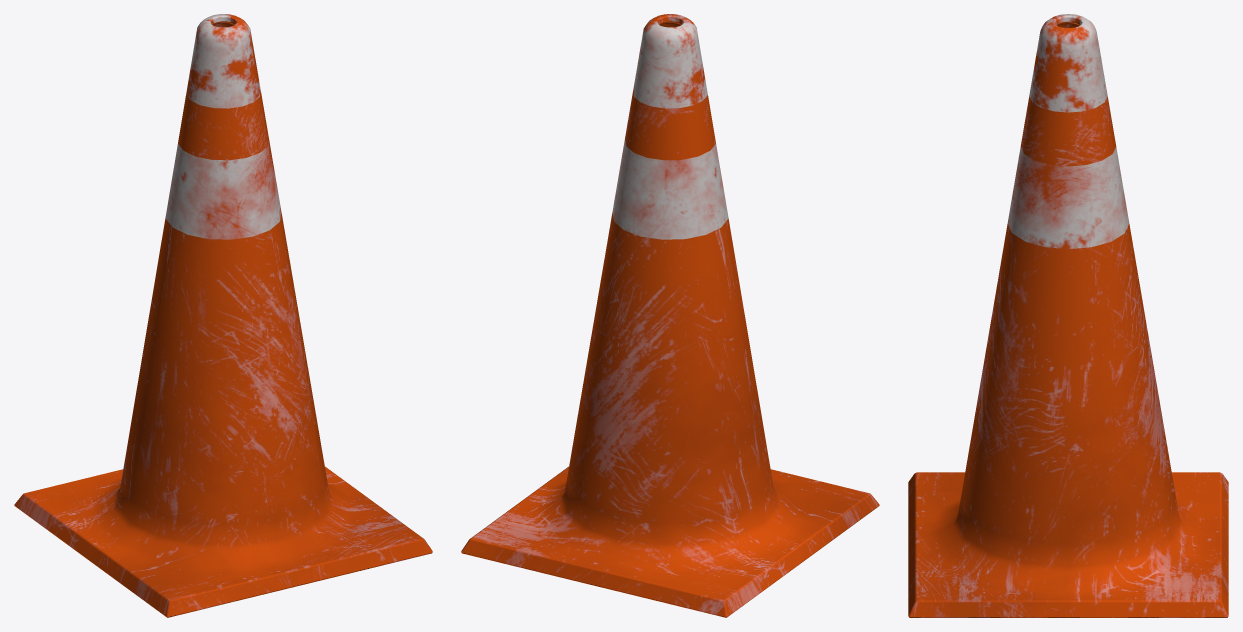
Rendered from trafficcone.fbx.
3 renders of one model, left to right at view 1: azimuth 30°, elevation 25°; view 2: azimuth 150°, elevation 25°; view 3: azimuth 270°, elevation 25°, orthographic. The views are drawn at different scales.
Parts seen in each view (by area): view 1: Plane_Baked; view 2: Plane_Baked; view 3: Plane_Baked.
Part boxes in pixels (bbox=[...]): Plane_Baked: bbox=[14, 14, 432, 617]; Plane_Baked: bbox=[461, 14, 879, 617]; Plane_Baked: bbox=[908, 14, 1228, 617].
Bounding box in the file's own units: 16.45 × 29.96 × 16.45.
